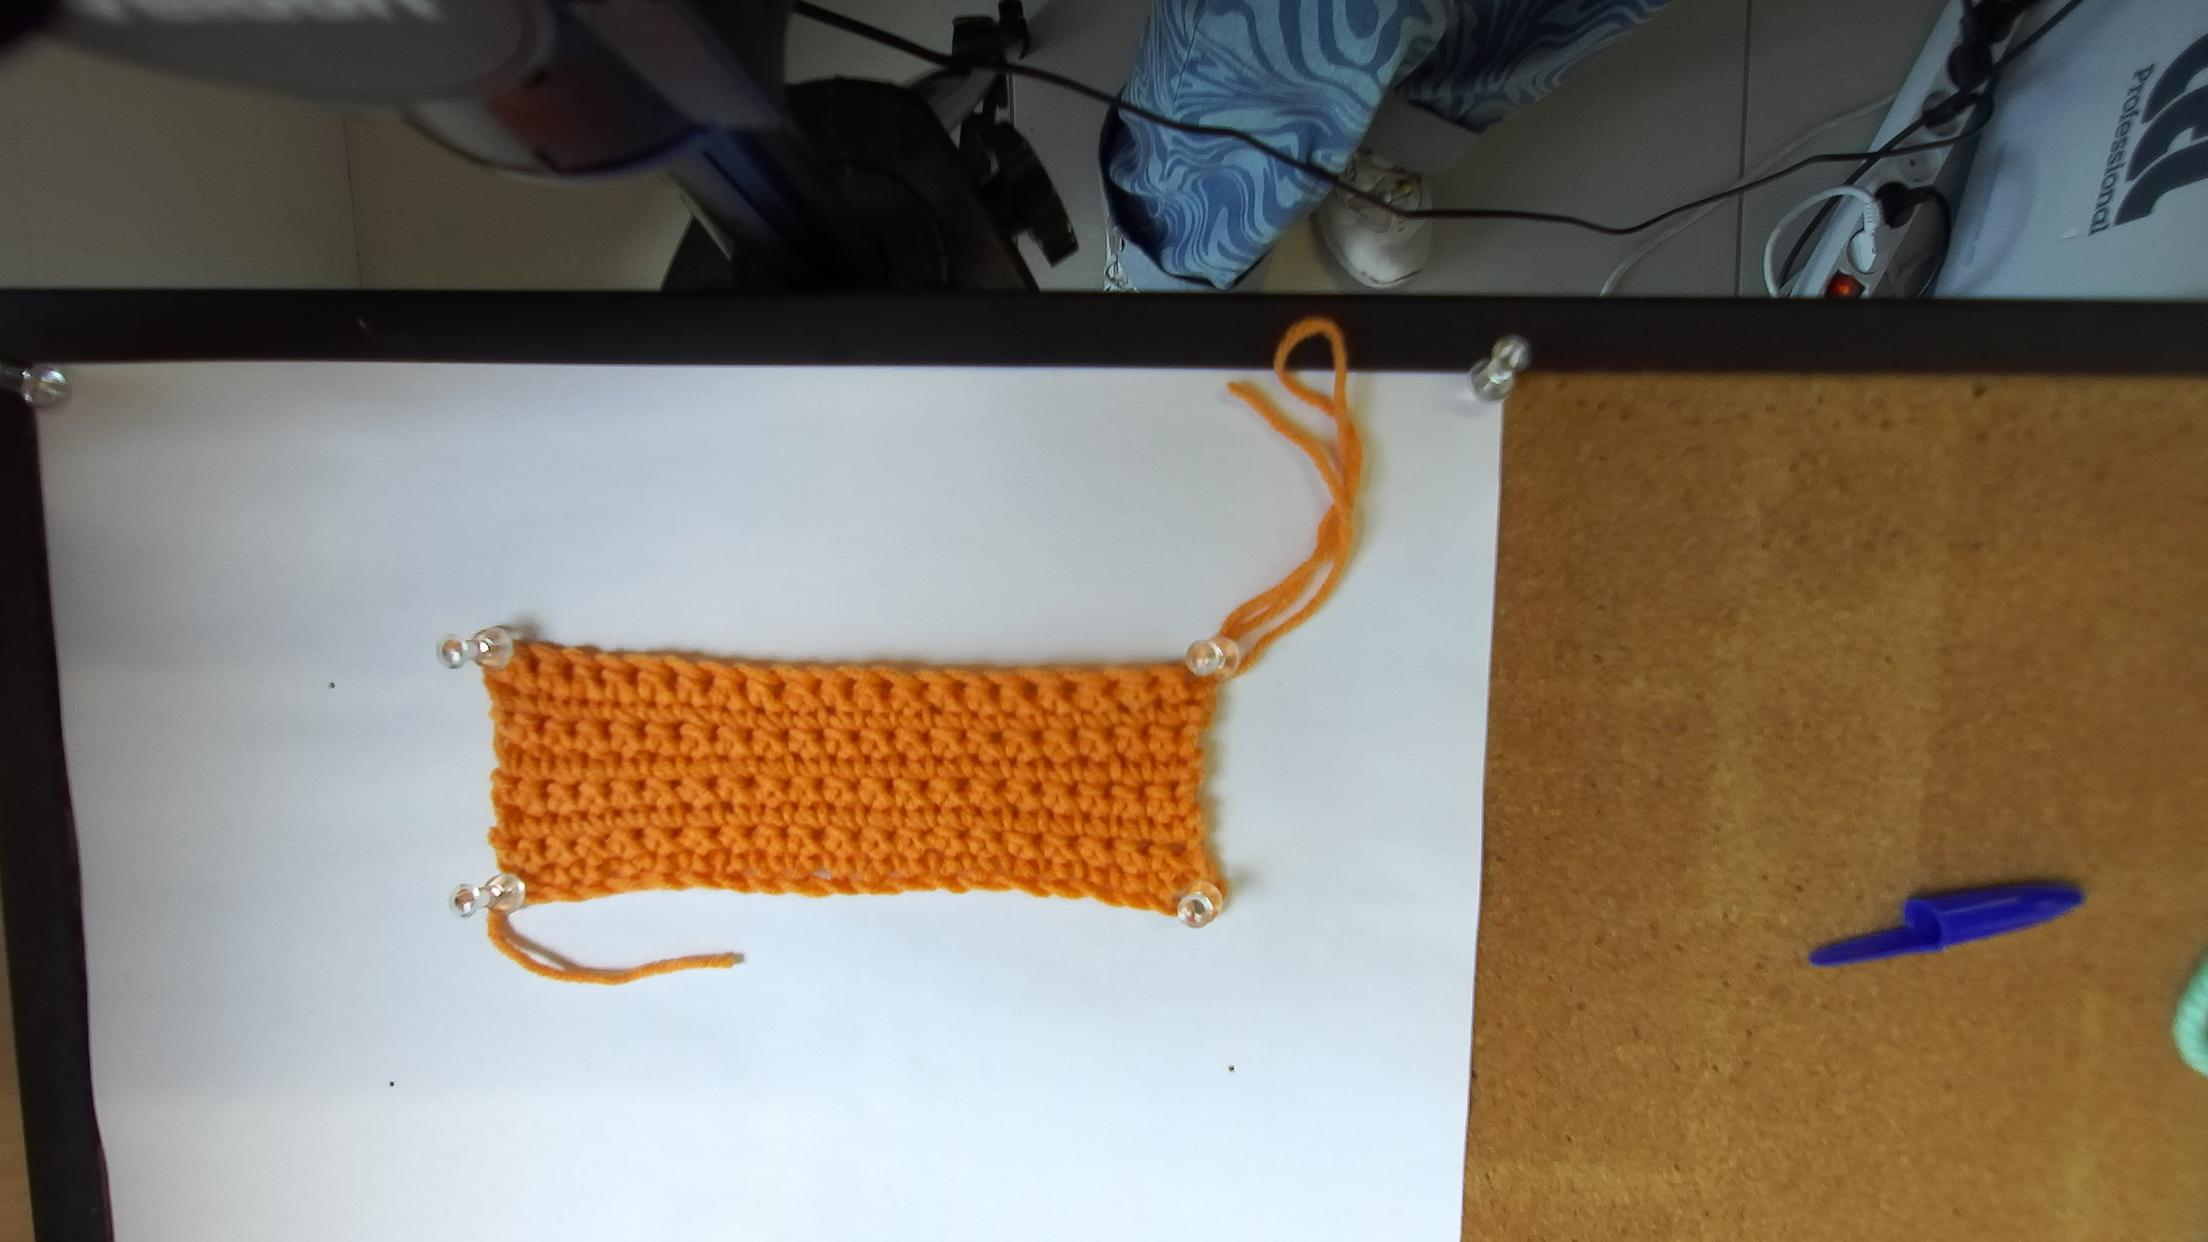hole: (558, 660, 576, 682), (590, 664, 607, 688), (701, 672, 717, 695), (842, 678, 858, 701), (666, 667, 679, 693), (913, 681, 930, 701), (626, 666, 641, 687), (772, 679, 787, 699), (525, 654, 538, 675), (1022, 681, 1039, 698), (952, 681, 968, 699), (1062, 682, 1080, 698), (737, 675, 748, 699), (1104, 679, 1119, 695), (810, 678, 822, 696), (989, 682, 1001, 701), (880, 678, 895, 692), (1148, 676, 1162, 692), (1180, 673, 1195, 687)
swatch: (481, 641, 1234, 927)
